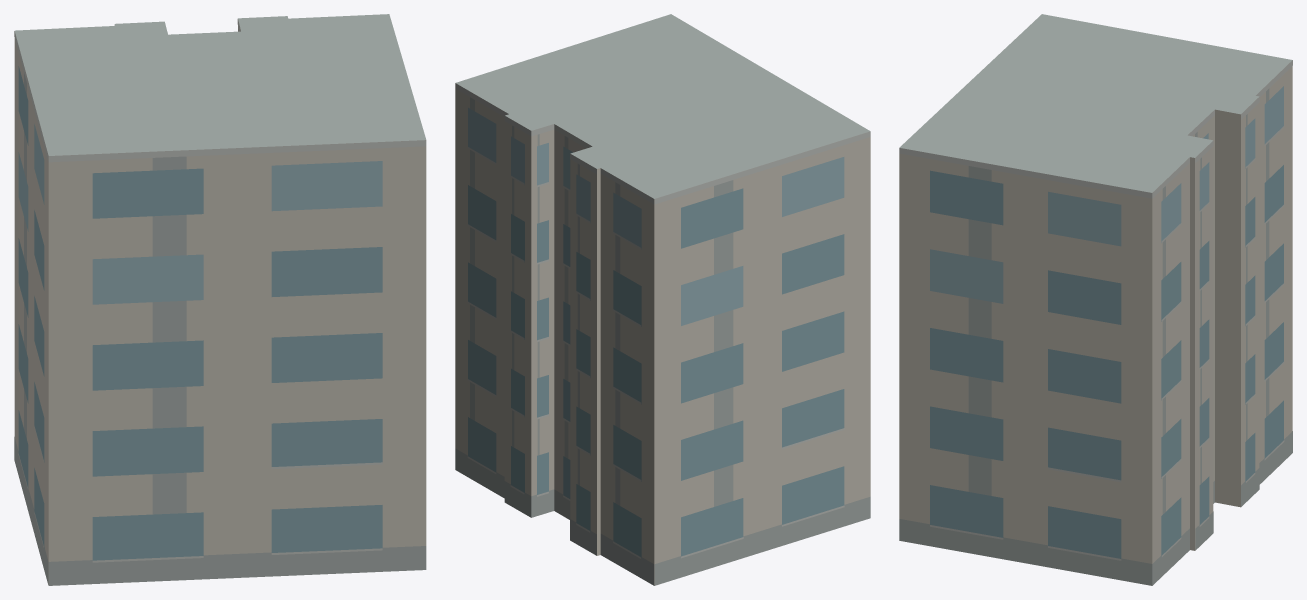
Rendered from survey-upis-32531711.glb.
3 renders of one model, left to right at view 1: azimuth 30°, elevation 25°; view 2: azimuth 150°, elevation 25°; view 3: azimuth 270°, elevation 25°, orthographic. The views are drawn at different scales.
Parts seen in each view (by area): view 1: survey-upis-32531711.tmp; view 2: survey-upis-32531711.tmp; view 3: survey-upis-32531711.tmp.
Boxes of the visible parts, box(x1,y1,x2,y2) form: survey-upis-32531711.tmp: box(14, 14, 426, 585); survey-upis-32531711.tmp: box(455, 14, 870, 585); survey-upis-32531711.tmp: box(899, 14, 1292, 585).
Bounding box in the file's own units: 16.32 × 16.7 × 15.17.
